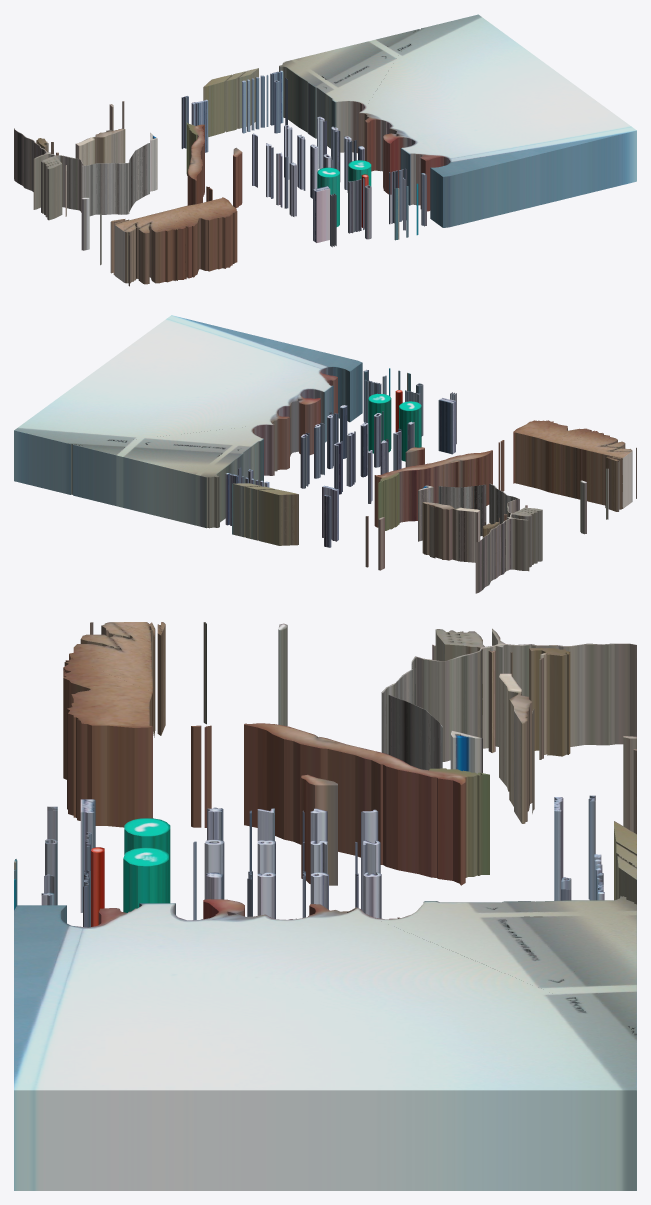
Rendered from Builder20220303192922.glb.
3 views of the same model, one above another, from view 1: azimuth 30°, elevation 25°; view 2: azimuth 150°, elevation 25°; view 3: azimuth 270°, elevation 25° (orthographic). The views are drawn at different scales.
Bounding box in the file's own units: 0.2449 × 0.0245 × 0.1377.
Materials: 1 (1 with a texture image).
